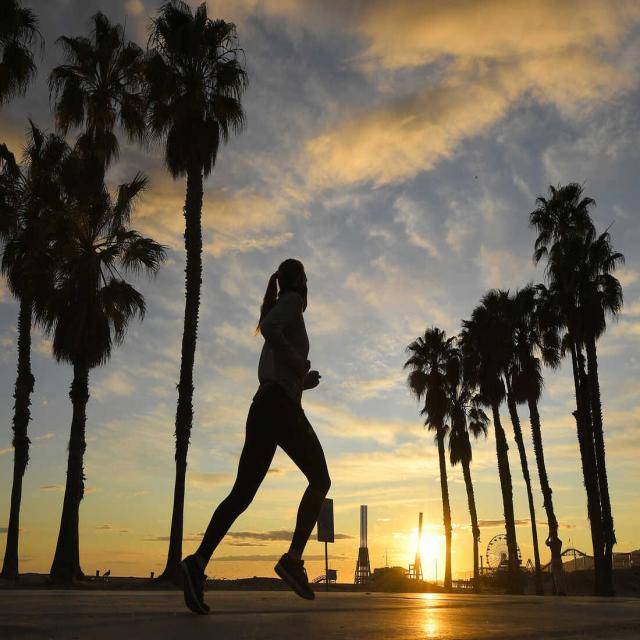running: (175, 257, 336, 618)
